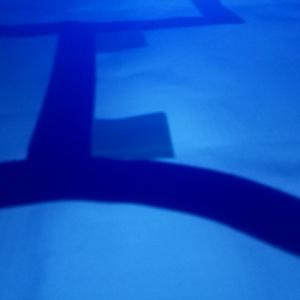bottom_right: (60, 21, 147, 53)
top_right: (39, 112, 176, 201)
